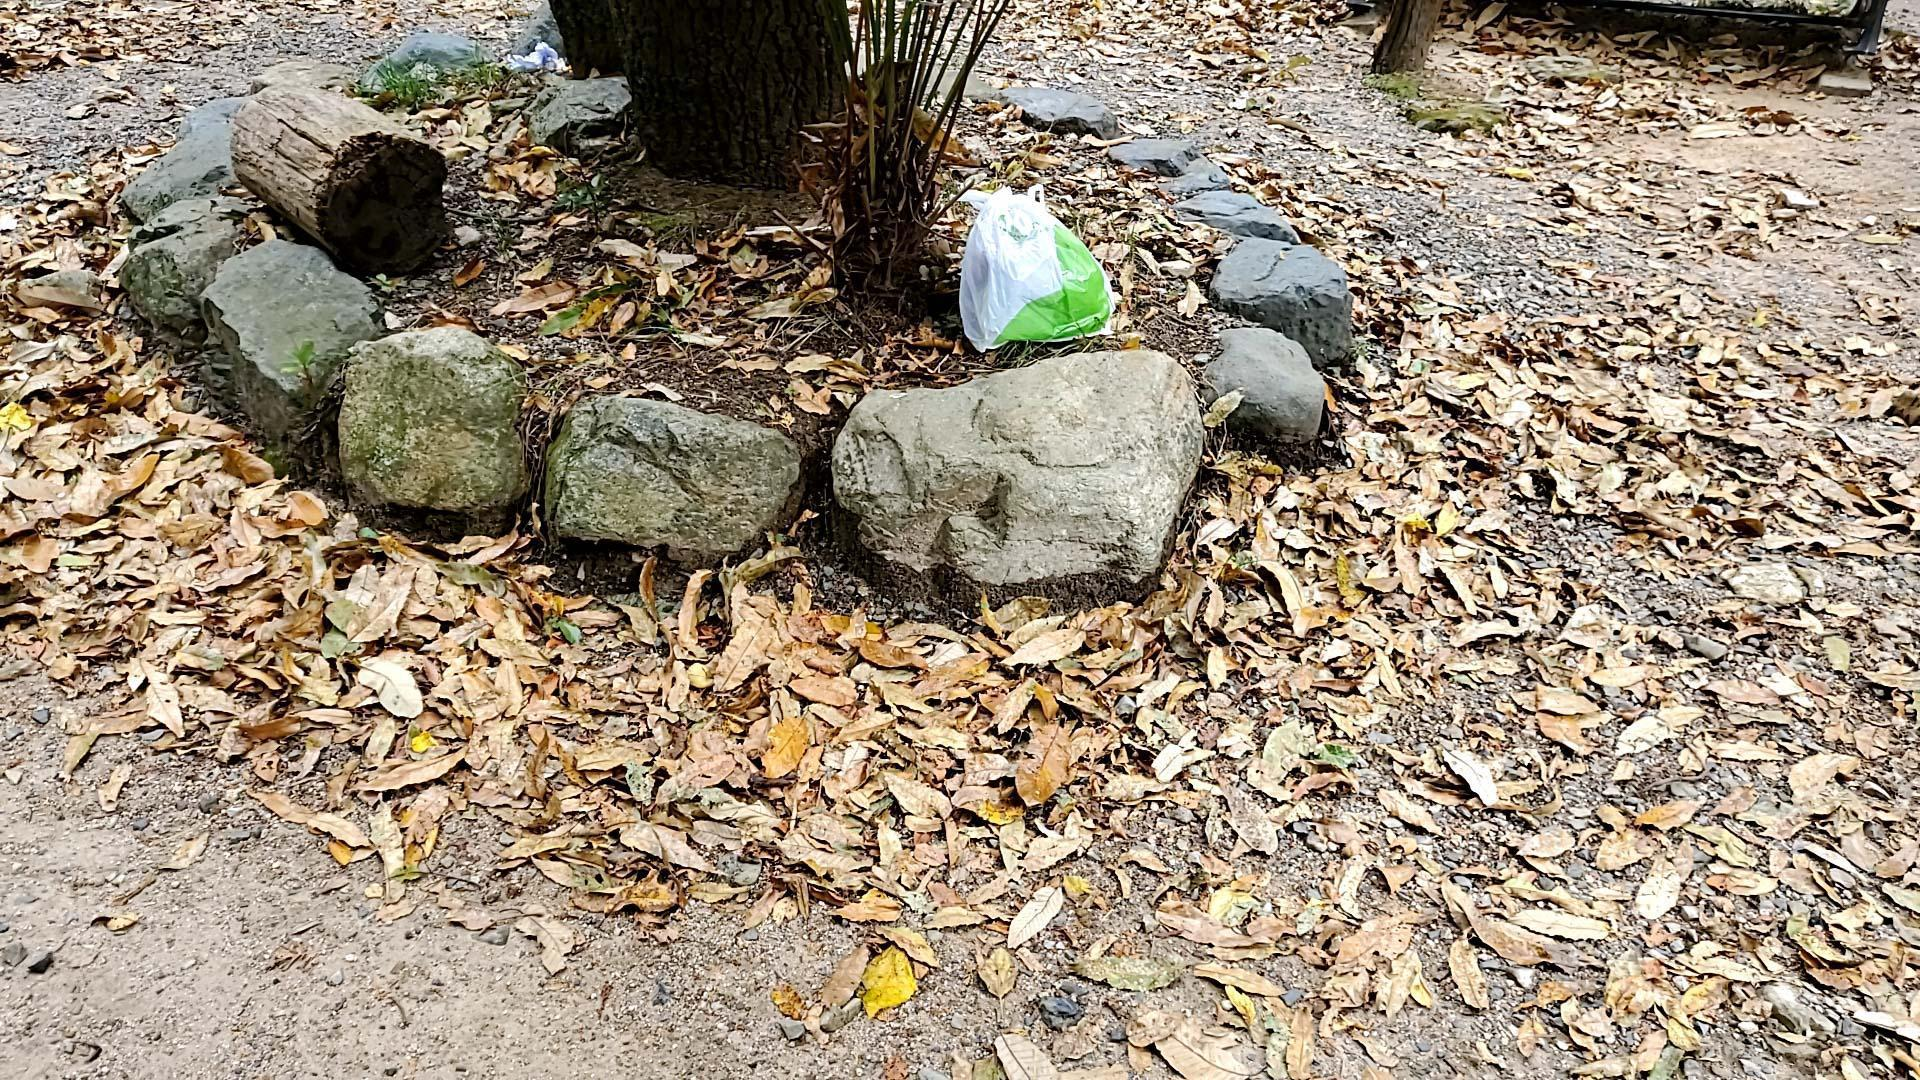white_bag: (938, 171, 1127, 364)
